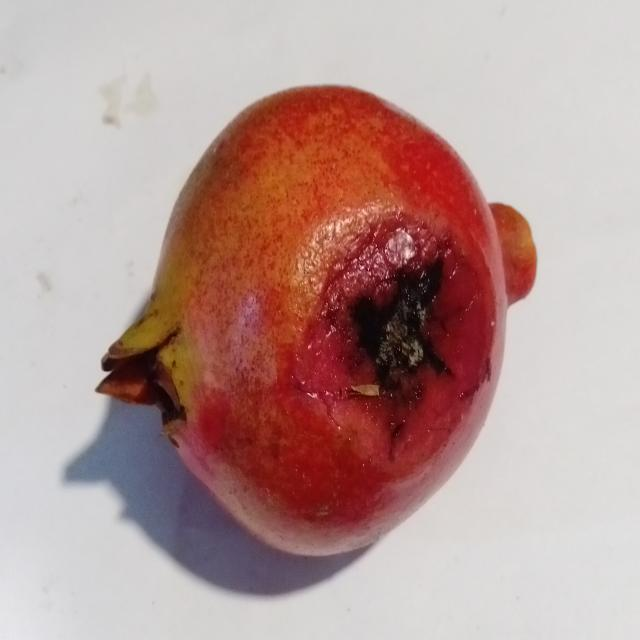Rotten: (96, 72, 542, 562)
